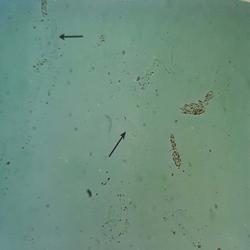Cast: (112, 107, 146, 137), (43, 17, 61, 63)
